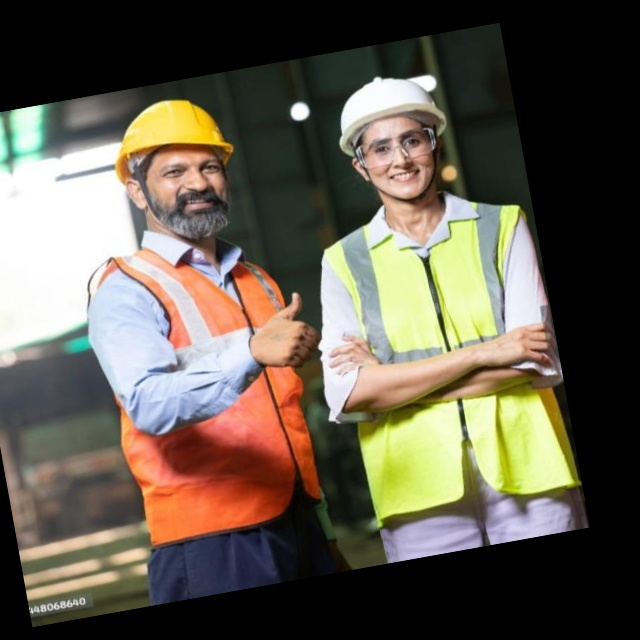Con_Casco: (106, 89, 249, 250), (329, 64, 459, 211)
Con_Chaleco: (315, 183, 581, 529), (77, 224, 340, 552)
